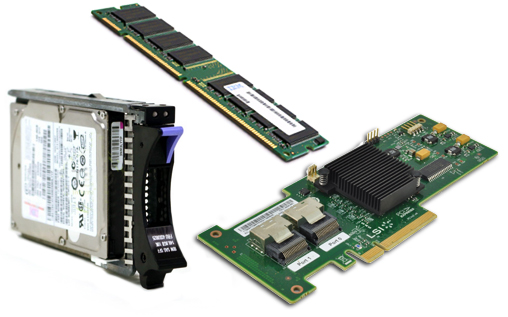ibm-server: (5, 86, 195, 300)
